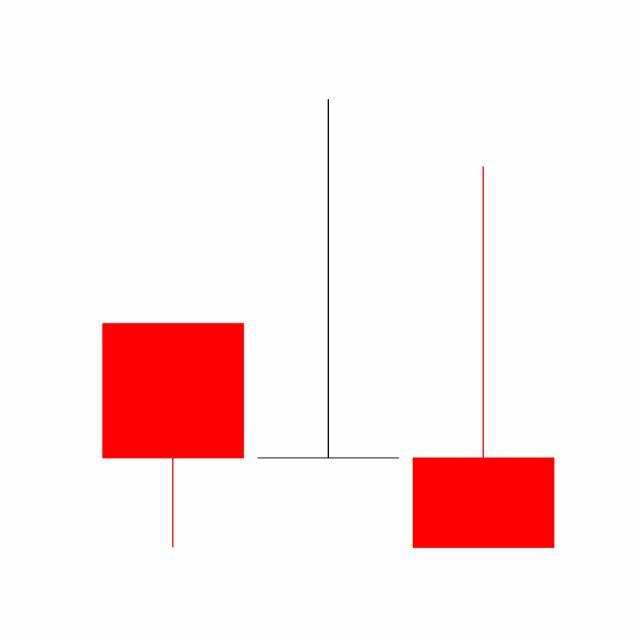Gravestone Doji: (250, 96, 407, 463)
